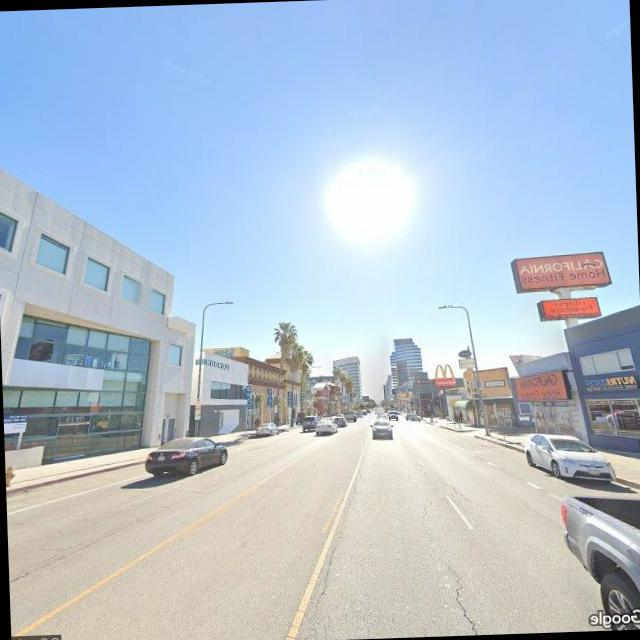pothole: (308, 498, 354, 616), (442, 553, 491, 635), (444, 478, 478, 504), (418, 499, 434, 536)
